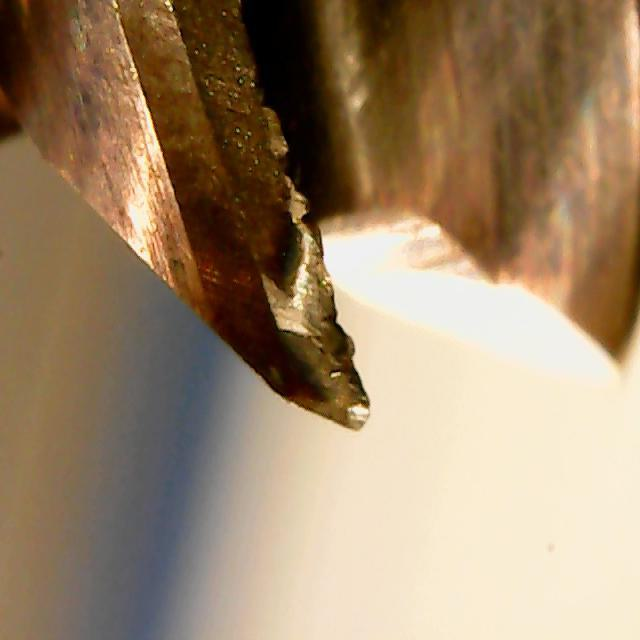Tool-wear-class-3: (201, 217, 388, 439)
